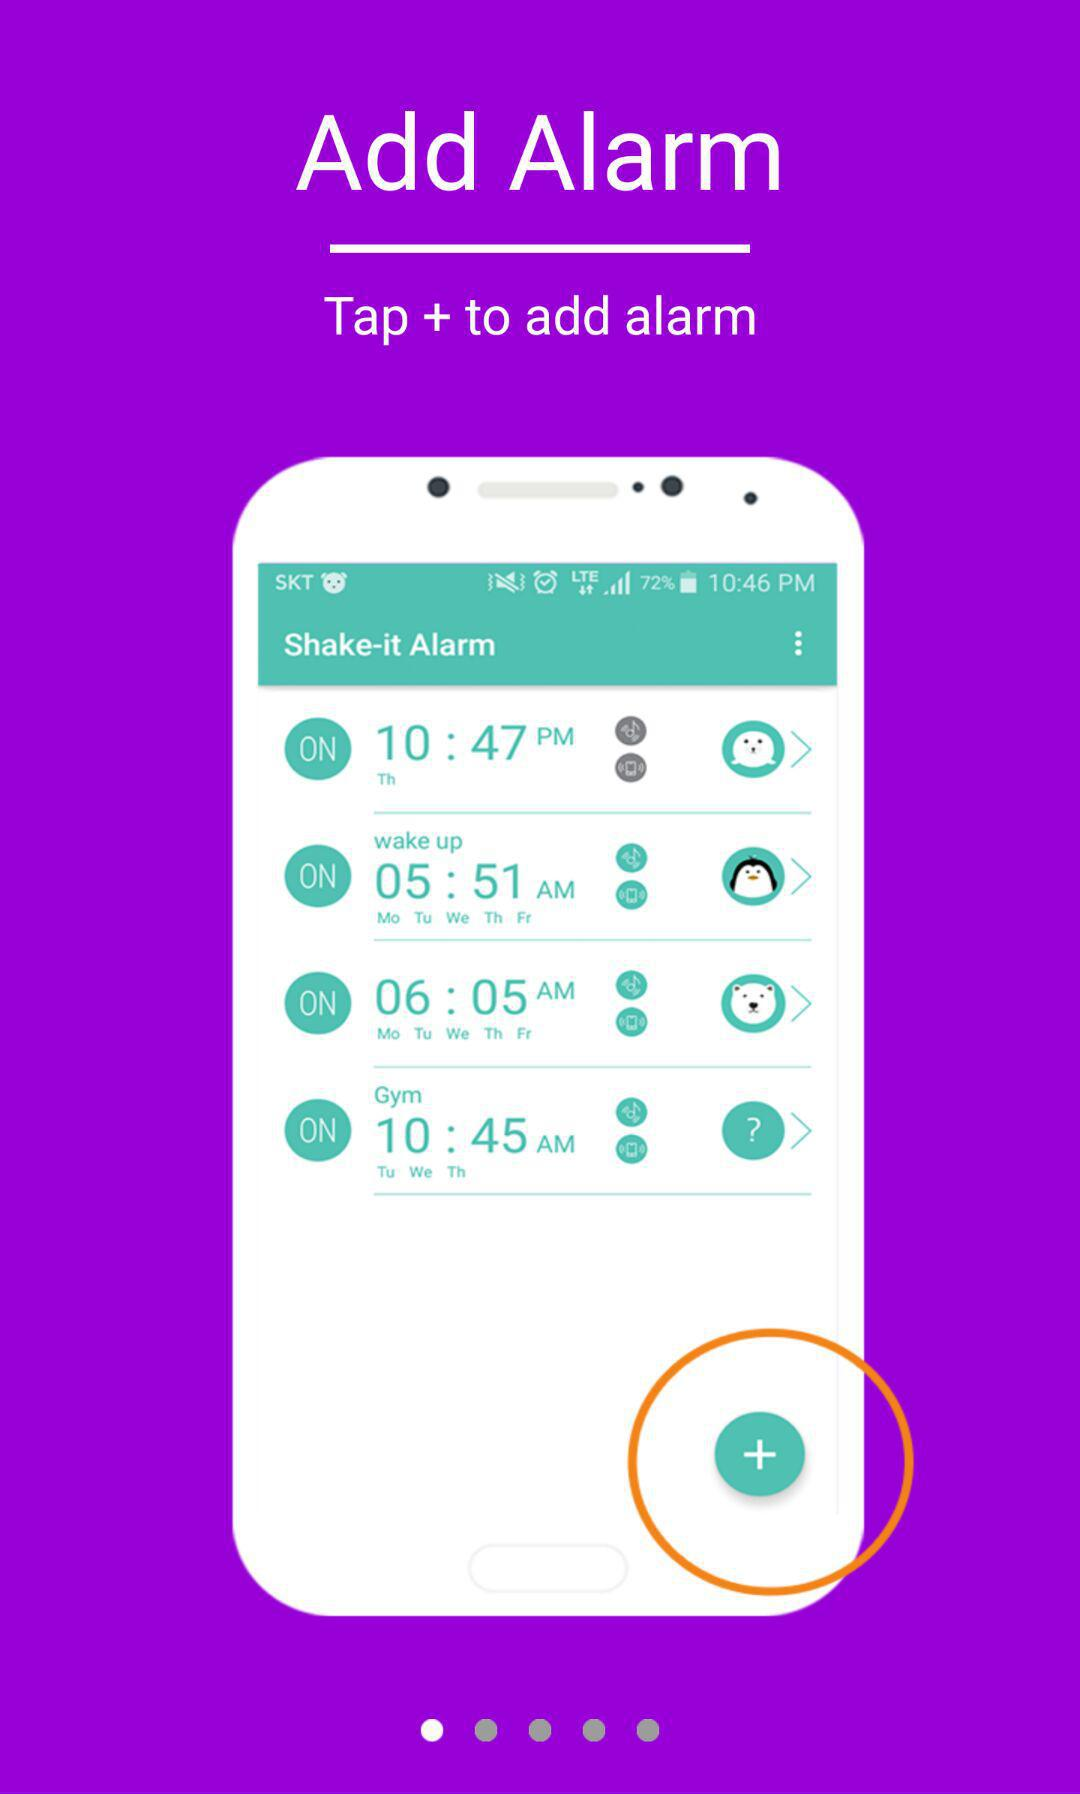Image: (231, 456, 917, 1618)
PageIndicator: (419, 1717, 661, 1744)
Text: (295, 109, 781, 195), (322, 293, 757, 349)
